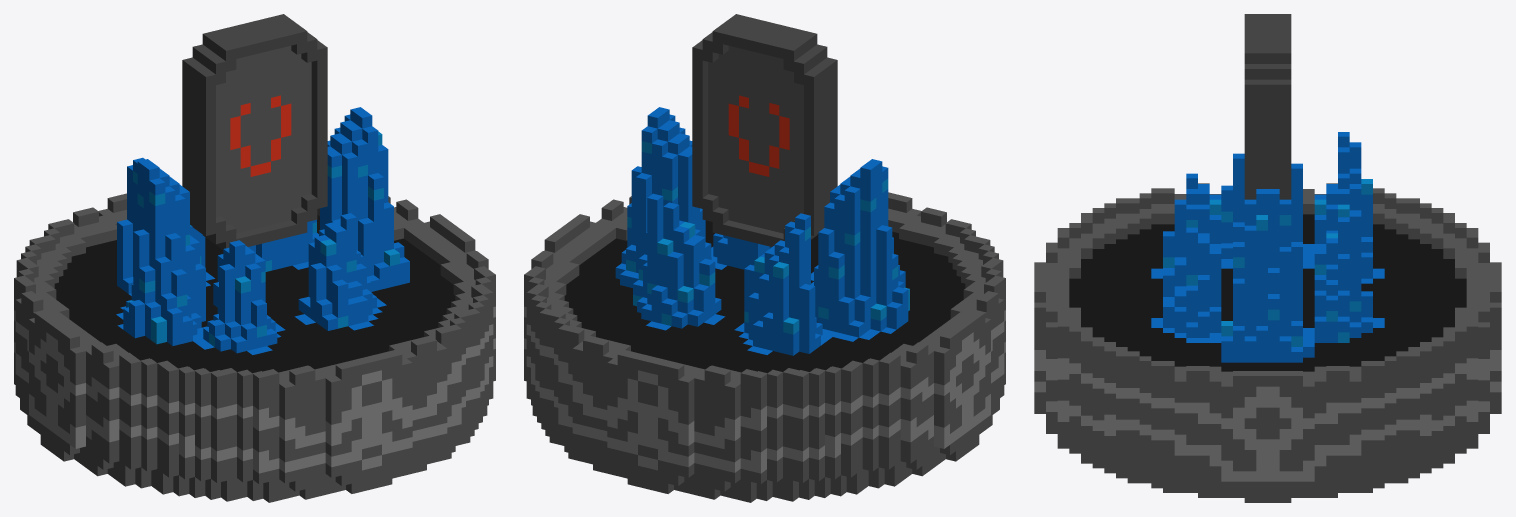
The model's file is алтарь с карсным камнем.obj.
The picture shows the model from 3 angles, left to right: view 1: azimuth 30°, elevation 25°; view 2: azimuth 150°, elevation 25°; view 3: azimuth 270°, elevation 25°; orthographic projection.
Bounding box in the file's own units: 4 × 3.5 × 4.
1 material, 1 textured.
